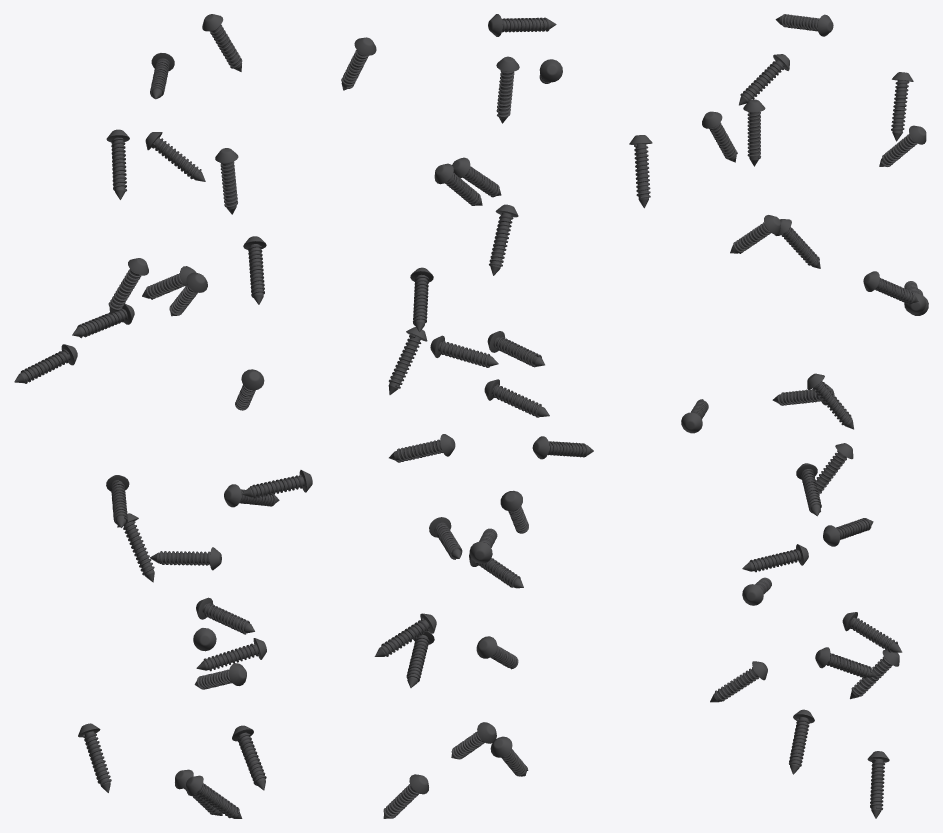
The model's file is ALV-DRY-006_anim.glb.
The picture shows the model from 3 angles, left to right: view 1: azimuth 30°, elevation 25°; view 2: azimuth 150°, elevation 25°; view 3: azimuth 270°, elevation 25°; orthographic projection. The views are drawn at different scales.
Visible parts, largest first — view 1: ALV-DRY-006_anim14, ALV-DRY-006_anim20, ALV-DRY-006_anim8, ALV-DRY-006_anim6, ALV-DRY-006_anim12, ALV-DRY-006_anim3, ALV-DRY-006_anim2, ALV-DRY-006_anim22, ALV-DRY-006_anim18, ALV-DRY-006_anim1, ALV-DRY-006_anim21, ALV-DRY-006_anim23 (+11 smaller); view 2: ALV-DRY-006_anim17, ALV-DRY-006_anim5, ALV-DRY-006_anim15, ALV-DRY-006_anim14, ALV-DRY-006_anim10, ALV-DRY-006_anim24, ALV-DRY-006_anim19, ALV-DRY-006_anim21, ALV-DRY-006_anim13, ALV-DRY-006_anim16, ALV-DRY-006_anim12, ALV-DRY-006_anim11 (+12 smaller); view 3: ALV-DRY-006_anim3, ALV-DRY-006_anim13, ALV-DRY-006_anim5, ALV-DRY-006_anim0, ALV-DRY-006_anim21, ALV-DRY-006_anim1, ALV-DRY-006_anim7, ALV-DRY-006_anim22, ALV-DRY-006_anim4, ALV-DRY-006_anim23, ALV-DRY-006_anim16, ALV-DRY-006_anim18 (+11 smaller).
Part boxes in pixels (left/top/right/bottom): ALV-DRY-006_anim14: left=14, top=344, right=77, bottom=383; ALV-DRY-006_anim20: left=106, top=129, right=129, bottom=199; ALV-DRY-006_anim8: left=149, top=547, right=221, bottom=570; ALV-DRY-006_anim6: left=196, top=638, right=266, bottom=671; ALV-DRY-006_anim12: left=241, top=470, right=312, bottom=498; ALV-DRY-006_anim3: left=232, top=725, right=266, bottom=790; ALV-DRY-006_anim2: left=78, top=723, right=111, bottom=792; ALV-DRY-006_anim22: left=145, top=132, right=205, bottom=181; ALV-DRY-006_anim18: left=243, top=236, right=266, bottom=304; ALV-DRY-006_anim1: left=186, top=775, right=242, bottom=818; ALV-DRY-006_anim21: left=215, top=148, right=238, bottom=214; ALV-DRY-006_anim23: left=202, top=14, right=242, bottom=71; ALV-DRY-006_anim17: left=489, top=204, right=518, bottom=275; ALV-DRY-006_anim5: left=374, top=613, right=436, bottom=656; ALV-DRY-006_anim15: left=430, top=335, right=498, bottom=367; ALV-DRY-006_anim14: left=484, top=379, right=549, bottom=417; ALV-DRY-006_anim10: left=389, top=434, right=455, bottom=462; ALV-DRY-006_anim24: left=488, top=14, right=556, bottom=36; ALV-DRY-006_anim19: left=629, top=135, right=652, bottom=208; ALV-DRY-006_anim21: left=496, top=56, right=519, bottom=123; ALV-DRY-006_anim13: left=388, top=327, right=427, bottom=394; ALV-DRY-006_anim16: left=410, top=267, right=433, bottom=331; ALV-DRY-006_anim12: left=487, top=331, right=544, bottom=367; ALV-DRY-006_anim11: left=532, top=436, right=593, bottom=459; ALV-DRY-006_anim3: left=710, top=661, right=767, bottom=702; ALV-DRY-006_anim13: left=807, top=373, right=853, bottom=429; ALV-DRY-006_anim5: left=842, top=612, right=902, bottom=652; ALV-DRY-006_anim0: left=867, top=751, right=889, bottom=818; ALV-DRY-006_anim21: left=743, top=99, right=765, bottom=166; ALV-DRY-006_anim1: left=789, top=709, right=814, bottom=774; ALV-DRY-006_anim7: left=742, top=544, right=808, bottom=572; ALV-DRY-006_anim22: left=739, top=54, right=789, bottom=105; ALV-DRY-006_anim4: left=815, top=647, right=876, bottom=678; ALV-DRY-006_anim23: left=891, top=72, right=913, bottom=141; ALV-DRY-006_anim16: left=863, top=271, right=918, bottom=304; ALV-DRY-006_anim18: left=730, top=215, right=780, bottom=253.
Bounding box in the file's own units: 0.0865 × 0.303 × 0.0891.
Materials: 1 (1 with a texture image).
